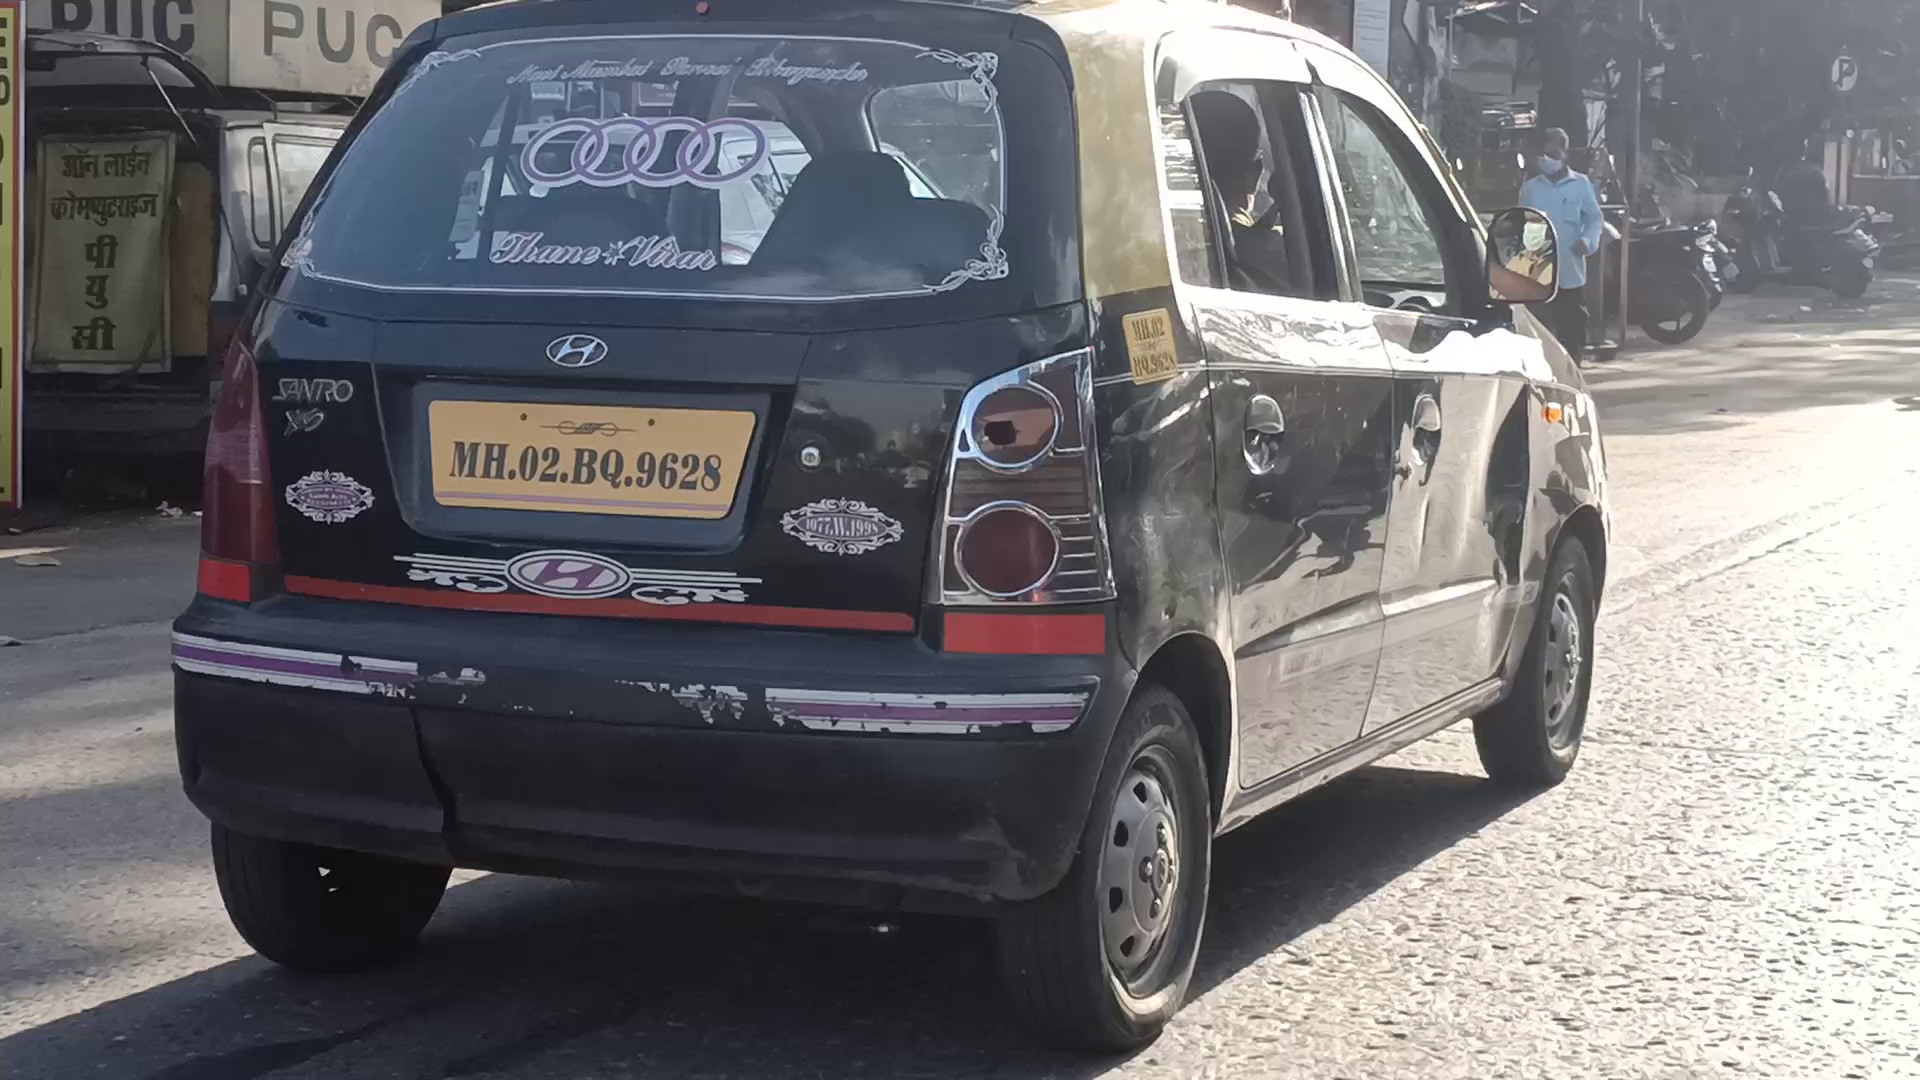MH02BQ9628: (425, 397, 759, 520)
